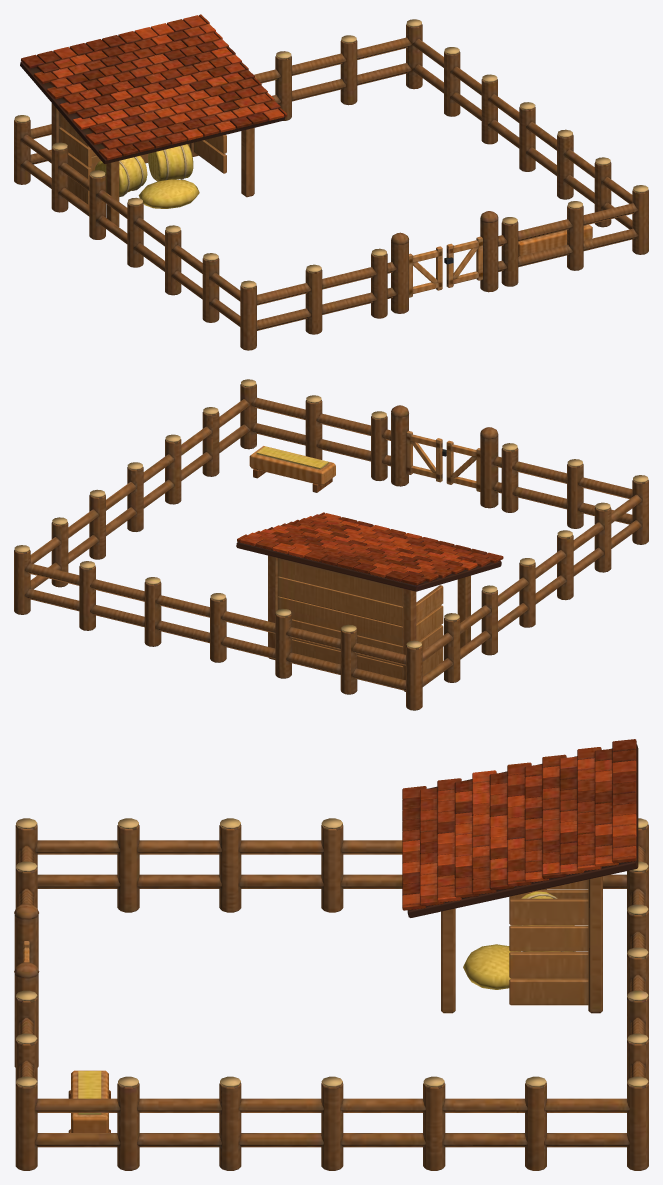
Rendered from longhorn_ranch.glb.
3 views of the same model, one above another, from view 1: azimuth 30°, elevation 25°; view 2: azimuth 150°, elevation 25°; view 3: azimuth 270°, elevation 25° (orthographic). The views are drawn at different scales.
Visible parts, largest first — view 1: longhorn_ranch, gate1, gate0; view 2: longhorn_ranch, gate1, gate0; view 3: longhorn_ranch.
Boxes of the visible parts, x1,y1,x2,y2 form: longhorn_ranch: (14,14,648,350); gate1: (444,236,482,287); gate0: (409,246,442,297); longhorn_ranch: (14,379,648,710); gate1: (406,431,446,482); gate0: (446,440,480,491); longhorn_ranch: (14,739,648,1170).
Bounding box in the file's own units: 3 × 0.9345 × 3.01.
Materials: 1 (1 with a texture image).
